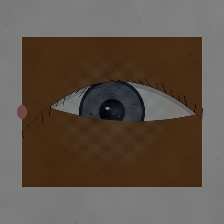pinguecula_lesion: (21, 89, 57, 118)
